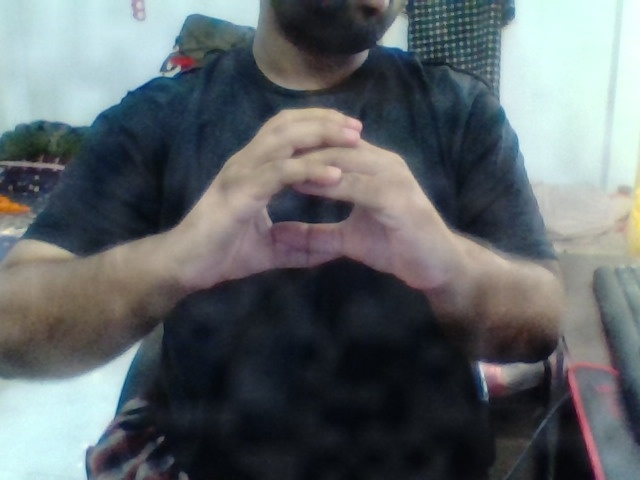O: (205, 103, 424, 297)
